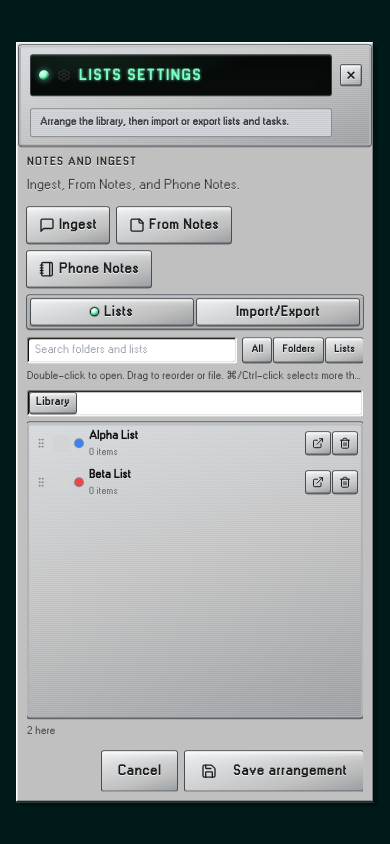
Test case: NextActionsSettingsDialog › shows import/export tab with data summary
This screenshot has width=390, height=844.
Click the tab "Import/Export": [278, 312] box 197,299 -> 359,325
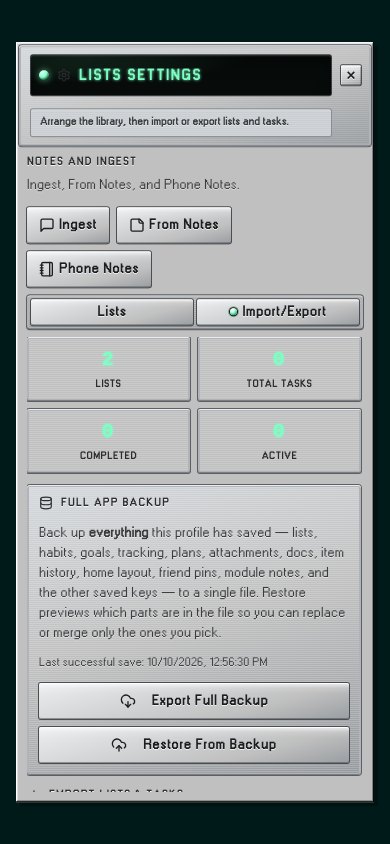
Result: the text "Total Tasks" is shown at 247,379 -> 312,389
Result: the text "2" is shown at 102,348 -> 115,371
